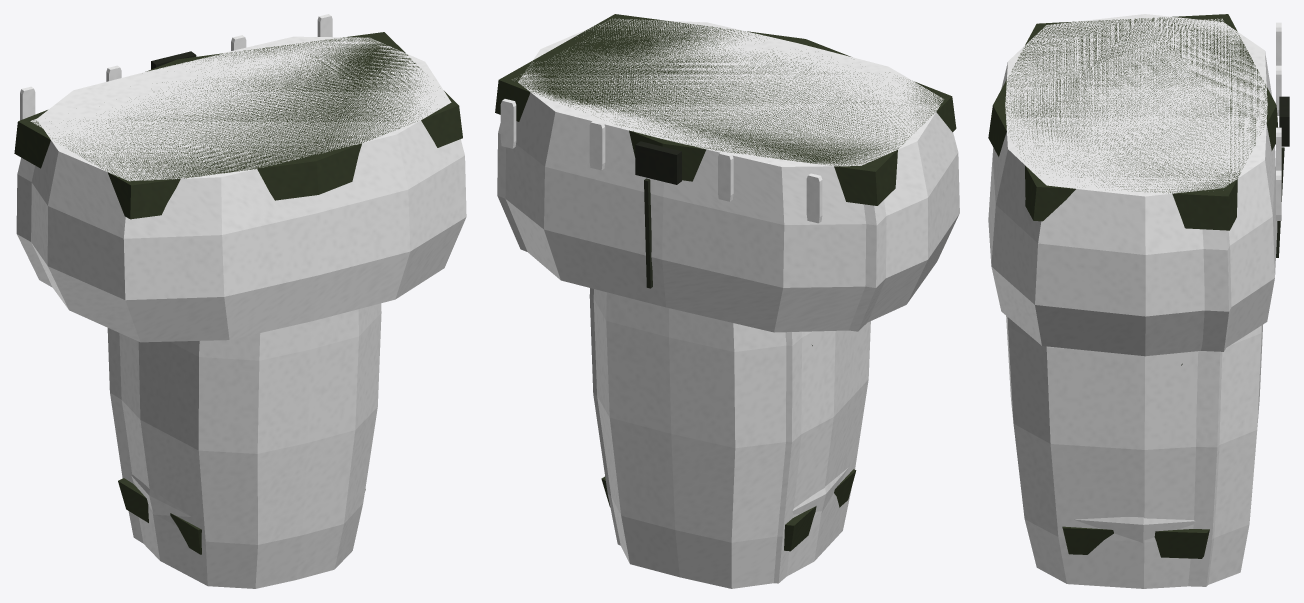
File: trousers_afghanka.glb
3 views of the same model, side by side, from view 1: azimuth 30°, elevation 25°; view 2: azimuth 150°, elevation 25°; view 3: azimuth 270°, elevation 25° (orthographic). The views are drawn at different scales.
Parts seen in each view (by area): view 1: trousers_afghanka_pelvis_LOD0_RAID_cloth.001, trousers_afghanka_thighL_LOD0_RAID_cloth.001, trousers_afghanka_pelvis_LOD0_RAID_reinforce.001, trousers_afghanka_pelvis_LOD1_RAID_cloth.001, trousers_afghanka_thighL_LOD1_RAID_cloth.001, trousers_afghanka_shinL_LOD0_RAID_reinforce.001, trousers_afghanka_shinL_LOD0_RAID_cloth.001; view 2: trousers_afghanka_pelvis_LOD0_RAID_cloth.001, trousers_afghanka_thighL_LOD0_RAID_cloth.001, trousers_afghanka_pelvis_LOD0_RAID_reinforce.001, trousers_afghanka_pelvis_LOD1_RAID_cloth.001, trousers_afghanka_thighL_LOD1_RAID_cloth.001, trousers_afghanka_pelvis_LOD0_RAID_zip.001, trousers_afghanka_shinL_LOD0_RAID_reinforce.001, trousers_afghanka_pelvis_LOD1_RAID_zip.001, trousers_afghanka_pelvis_LOD0_RAID_seam.001, trousers_afghanka_shinL_LOD0_RAID_cloth.001; view 3: trousers_afghanka_pelvis_LOD0_RAID_cloth.001, trousers_afghanka_thighL_LOD0_RAID_cloth.001, trousers_afghanka_pelvis_LOD0_RAID_reinforce.001, trousers_afghanka_pelvis_LOD1_RAID_cloth.001, trousers_afghanka_thighL_LOD1_RAID_cloth.001, trousers_afghanka_shinL_LOD0_RAID_reinforce.001, trousers_afghanka_shinL_LOD0_RAID_cloth.001, trousers_afghanka_pelvis_LOD1_RAID_zip.001.
Part boxes in pixels (<box>): trousers_afghanka_pelvis_LOD0_RAID_cloth.001: <box>20,14,466,342</box>; trousers_afghanka_thighL_LOD0_RAID_cloth.001: <box>119,303,381,588</box>; trousers_afghanka_pelvis_LOD0_RAID_reinforce.001: <box>14,32,462,219</box>; trousers_afghanka_pelvis_LOD1_RAID_cloth.001: <box>16,53,443,287</box>; trousers_afghanka_thighL_LOD1_RAID_cloth.001: <box>107,328,143,543</box>; trousers_afghanka_shinL_LOD0_RAID_reinforce.001: <box>118,478,365,554</box>; trousers_afghanka_shinL_LOD0_RAID_cloth.001: <box>131,474,191,516</box>; trousers_afghanka_pelvis_LOD0_RAID_cloth.001: <box>500,18,959,332</box>; trousers_afghanka_thighL_LOD0_RAID_cloth.001: <box>593,289,870,588</box>; trousers_afghanka_pelvis_LOD0_RAID_reinforce.001: <box>495,14,956,205</box>; trousers_afghanka_pelvis_LOD1_RAID_cloth.001: <box>497,23,886,331</box>; trousers_afghanka_thighL_LOD1_RAID_cloth.001: <box>589,288,802,583</box>; trousers_afghanka_pelvis_LOD0_RAID_zip.001: <box>635,142,681,184</box>; trousers_afghanka_shinL_LOD0_RAID_reinforce.001: <box>601,469,856,551</box>; trousers_afghanka_pelvis_LOD1_RAID_zip.001: <box>635,141,681,184</box>; trousers_afghanka_pelvis_LOD0_RAID_seam.001: <box>644,178,652,288</box>; trousers_afghanka_shinL_LOD0_RAID_cloth.001: <box>792,467,848,514</box>; trousers_afghanka_pelvis_LOD0_RAID_cloth.001: <box>988,14,1281,356</box>; trousers_afghanka_thighL_LOD0_RAID_cloth.001: <box>1006,316,1262,588</box>; trousers_afghanka_pelvis_LOD0_RAID_reinforce.001: <box>988,14,1278,230</box>; trousers_afghanka_pelvis_LOD1_RAID_cloth.001: <box>1008,18,1266,351</box>; trousers_afghanka_thighL_LOD1_RAID_cloth.001: <box>1188,351,1222,586</box>; trousers_afghanka_shinL_LOD0_RAID_reinforce.001: <box>1062,526,1209,558</box>; trousers_afghanka_shinL_LOD0_RAID_cloth.001: <box>1074,517,1194,542</box>; trousers_afghanka_pelvis_LOD1_RAID_zip.001: <box>1279,96,1289,146</box>.
Bounding box in the file's own units: 0.404 × 0.438 × 0.2665.
Materials: 4 (4 with a texture image).
